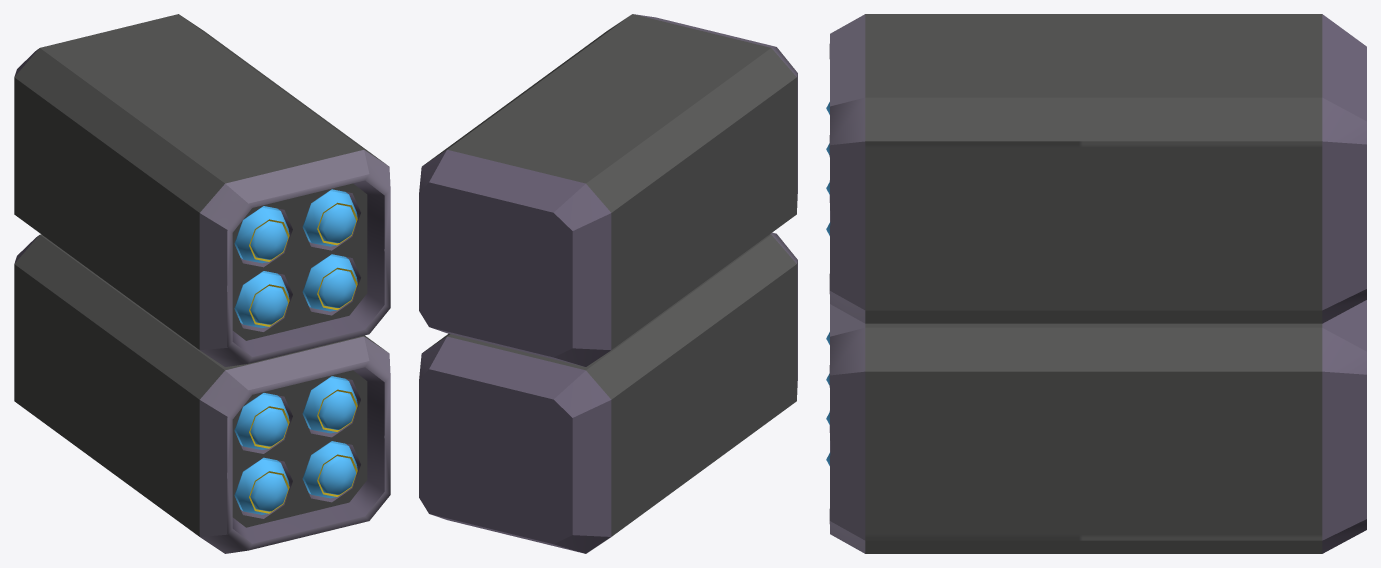
File: Exo_Rocket.fbx
3 renders of one model, left to right at view 1: azimuth 30°, elevation 25°; view 2: azimuth 150°, elevation 25°; view 3: azimuth 270°, elevation 25°, orthographic. The views are drawn at different scales.
Visible parts, largest first — view 1: polySurface168; view 2: polySurface168; view 3: polySurface168.
Part boxes in pixels (left/top/right/bottom): polySurface168: left=14, top=14, right=390, bottom=553; polySurface168: left=419, top=14, right=797, bottom=553; polySurface168: left=826, top=14, right=1366, bottom=553.
Bounding box in the file's own units: 0.1338 × 0.2495 × 0.2678.
